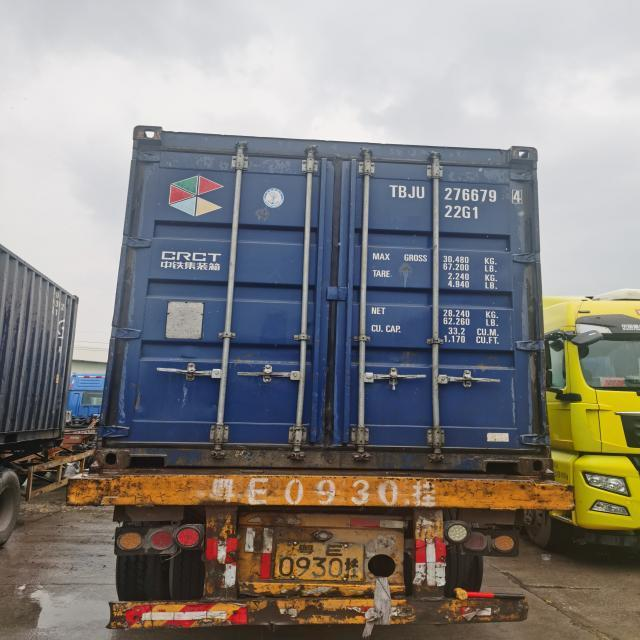ISO: (445, 204, 482, 222)
container_number: (389, 185, 520, 203)
